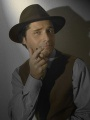male: (26, 21, 67, 61)
